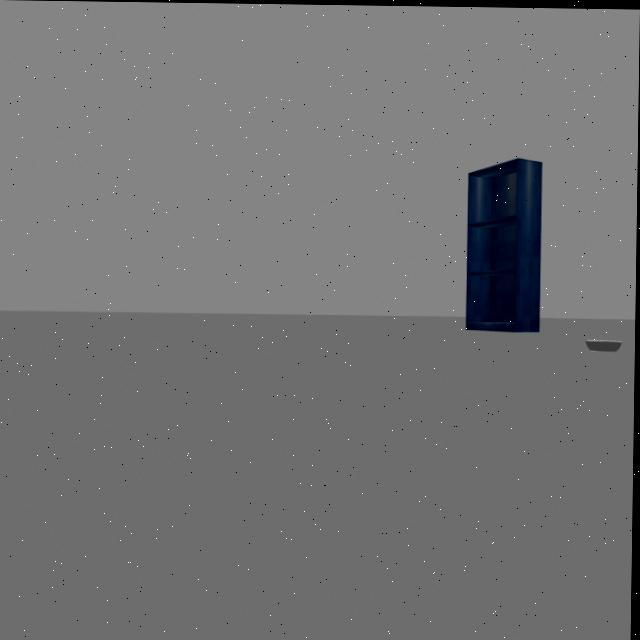bowl: (586, 325, 631, 362)
shelf: (459, 145, 551, 341)
